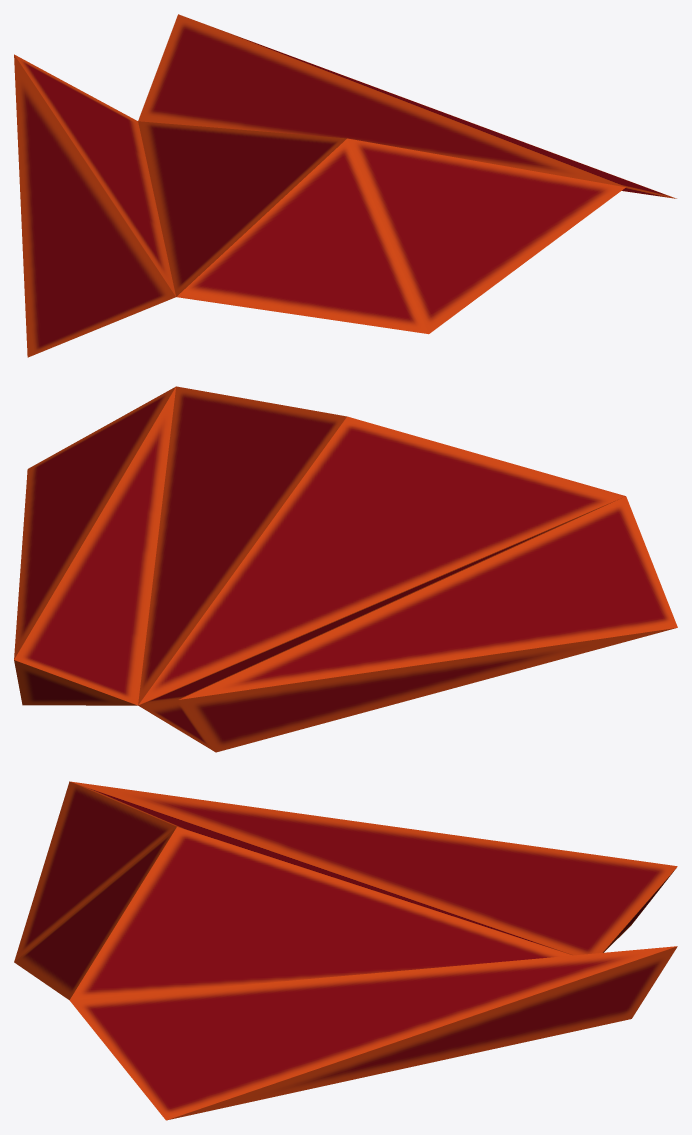
Rendered from shooter.dae.
The picture shows the model from 3 angles, top to bottom: view 1: azimuth 30°, elevation 25°; view 2: azimuth 150°, elevation 25°; view 3: azimuth 270°, elevation 25°; orthographic projection.
Visible parts, largest first — view 1: Cone; view 2: Cone; view 3: Cone.
Boxes of the visible parts, x1,y1,x2,y2 form: Cone: [14, 14, 676, 357]; Cone: [14, 386, 677, 752]; Cone: [14, 781, 677, 1120].
Size of the model in its own units: 2.5 by 2.22 by 0.5354.
Materials: 1 (1 with a texture image).
